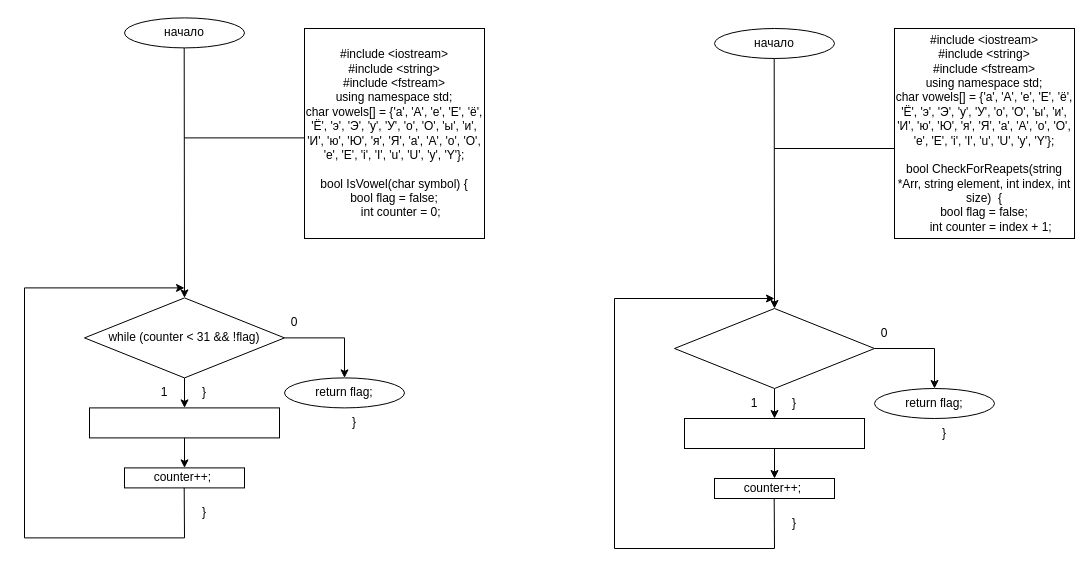
Some shapes in this 1092 by 567 pixel diagram are drawn without their labels. The centre of each missing label's shape, as x and y in pixels:
flag = element == Arr[counter];: [774,433]
flag = symbol == vowels[counter];: [184,422]
while (counter < size && !flag): [774,348]
